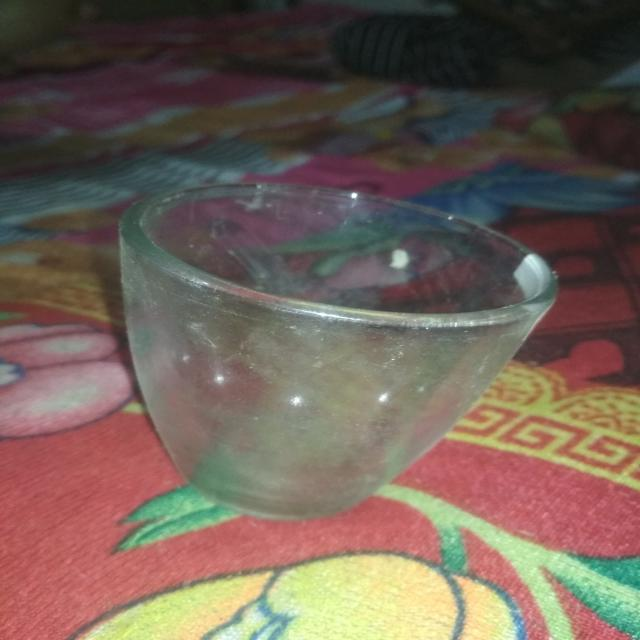Glass: (113, 178, 563, 524)
